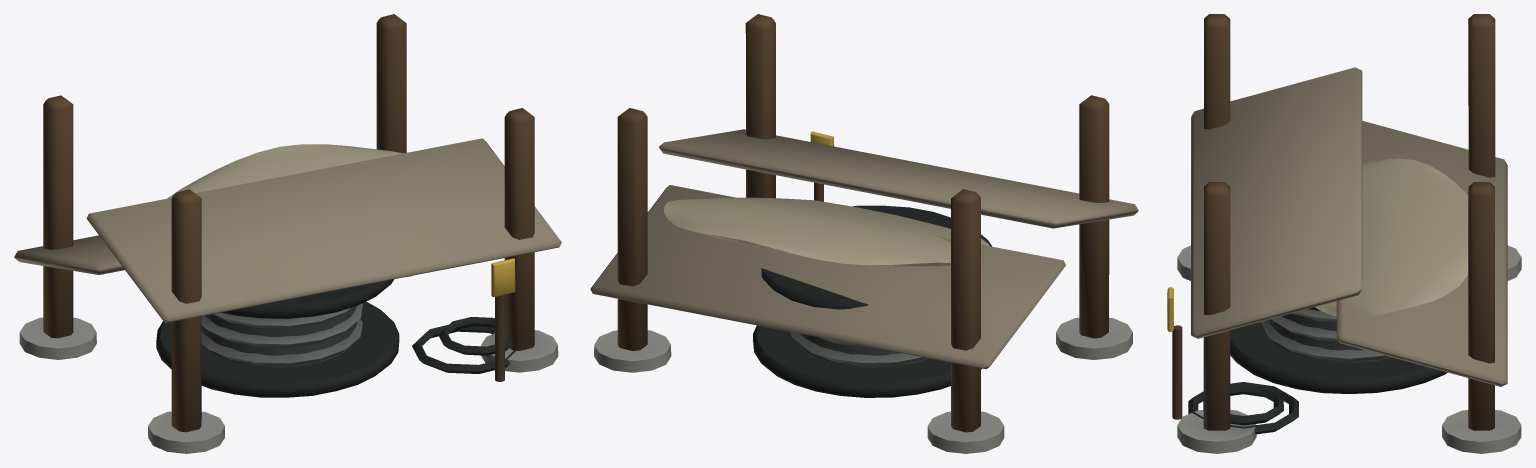
File: spool_shed_c.glb
The picture shows the model from 3 angles, left to right: view 1: azimuth 30°, elevation 25°; view 2: azimuth 150°, elevation 25°; view 3: azimuth 270°, elevation 25°; orthographic projection. The views are drawn at different scales.
Parts seen in each view (by area): view 1: Surface; view 2: Surface; view 3: Surface.
Part boxes in pixels (<box>): Surface: <box>14,14,561,453</box>; Surface: <box>590,14,1138,453</box>; Surface: <box>1167,14,1521,453</box>.
Size of the model in its own units: 3.61 by 2.1 by 2.68.
